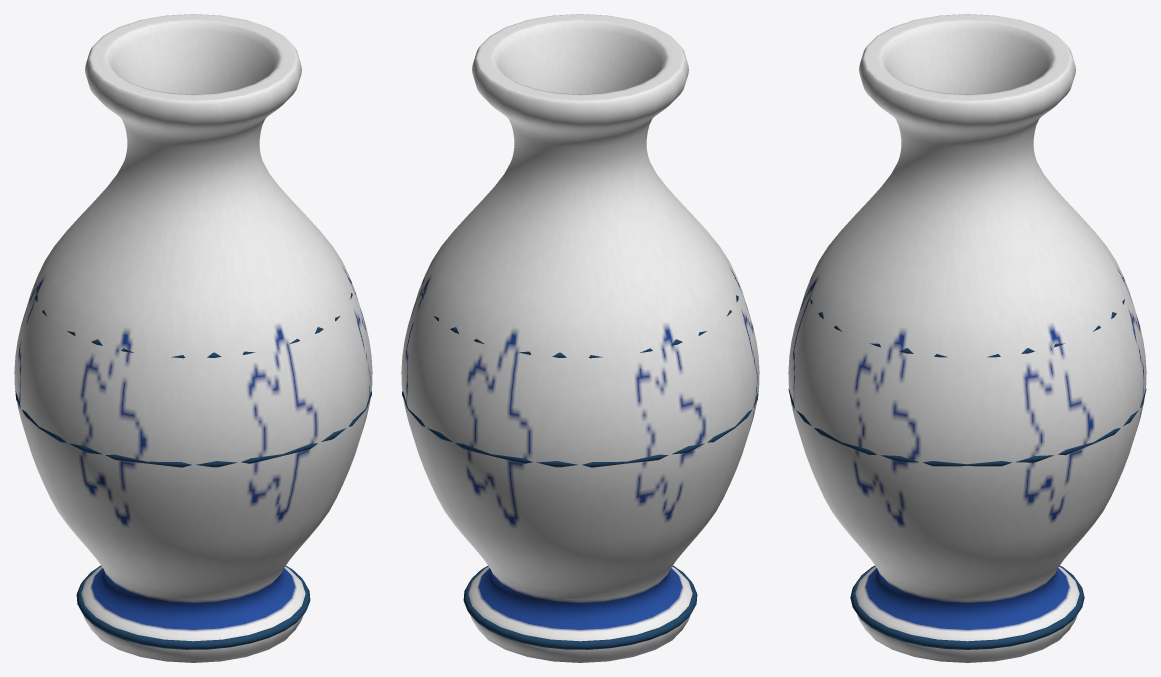
The model's file is decorative-vase.glb.
3 views of the same model, side by side, from view 1: azimuth 30°, elevation 25°; view 2: azimuth 150°, elevation 25°; view 3: azimuth 270°, elevation 25° (orthographic).
Parts seen in each view (by area): view 1: decorative-vase; view 2: decorative-vase; view 3: decorative-vase.
Boxes of the visible parts, x1=… form: decorative-vase: x1=14, y1=14, x2=372, y2=662; decorative-vase: x1=401, y1=14, x2=759, y2=662; decorative-vase: x1=788, y1=14, x2=1146, y2=662.
Bounding box in the file's own units: 0.22 × 0.38 × 0.22.
Materials: 2 (1 with a texture image).
